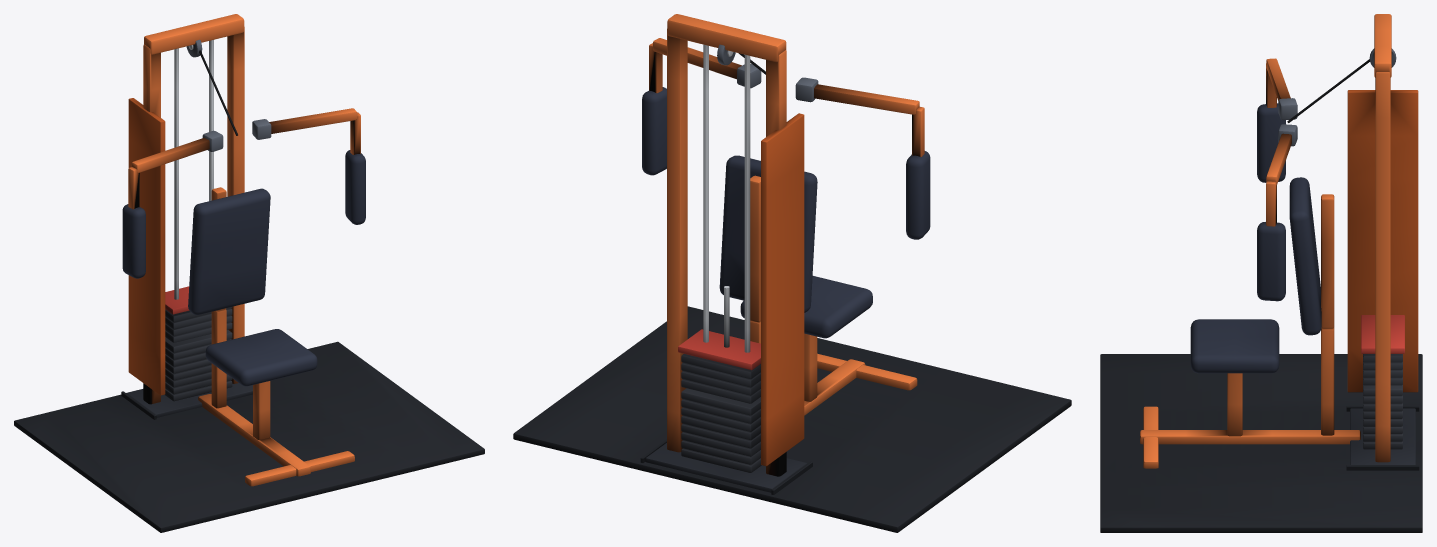
The model's file is m_pec.glb.
3 renders of one model, left to right at view 1: azimuth 30°, elevation 25°; view 2: azimuth 150°, elevation 25°; view 3: azimuth 270°, elevation 25°, orthographic. The views are drawn at different scales.
Visible parts, largest first — view 1: static, o41, o48, o17; view 2: static, o17, o41, o48; view 3: static, o48, o41, o17.
Part boxes in pixels (box(x1,y1,x2,y2)): static: box(14, 14, 484, 532); o41: box(122, 130, 223, 278); o48: box(252, 108, 365, 224); o17: box(165, 286, 232, 342); static: box(513, 14, 1071, 532); o17: box(678, 286, 760, 403); o41: box(795, 77, 930, 239); o48: box(642, 38, 761, 175); static: box(1100, 14, 1422, 532); o48: box(1257, 124, 1297, 301); o41: box(1257, 58, 1297, 182); o17: box(1361, 315, 1404, 385).
Bounding box in the file's own units: 1.86 × 2.05 × 1.46.
